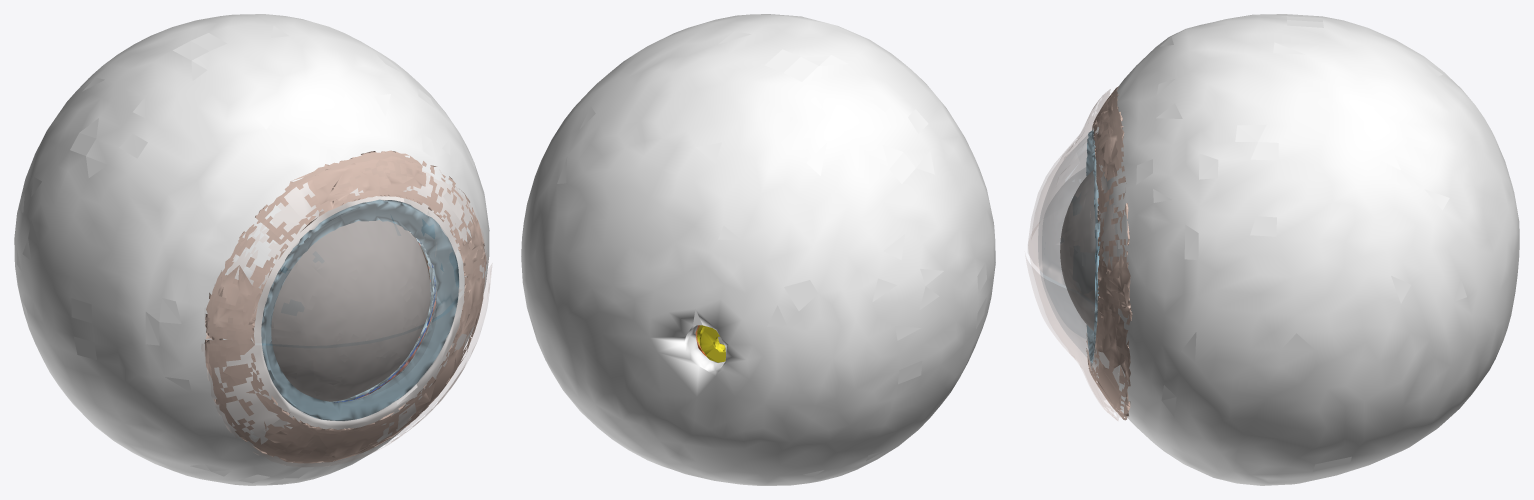
File: 3d-vh-f-eye-l-40.glb
3 views of the same model, side by side, from view 1: azimuth 30°, elevation 25°; view 2: azimuth 150°, elevation 25°; view 3: azimuth 270°, elevation 25° (orthographic).
Visible parts, largest first — view 1: VH_F_sclera_L, VH_F_palpebral_conjunctiva_of_left_upper_eyelid, VH_F_cornea_L, VH_F_palpebral_conjunctiva_of_left_lower_eyelid, VH_F_bulbar_conjunctiva_L, VH_F_aqueous_humor_L, VH_F_corneo_scleral_junction_L, VH_F_trabecular_meshwork_L; view 2: VH_F_sclera_L, VH_F_optic_disc_L; view 3: VH_F_sclera_L, VH_F_palpebral_conjunctiva_of_left_upper_eyelid, VH_F_cornea_L, VH_F_bulbar_conjunctiva_L, VH_F_palpebral_conjunctiva_of_left_lower_eyelid, VH_F_aqueous_humor_L, VH_F_corneo_scleral_junction_L.
Boxes of the visible parts, bbox=[...] form: VH_F_sclera_L: bbox=[14, 14, 489, 485]; VH_F_palpebral_conjunctiva_of_left_upper_eyelid: bbox=[209, 156, 487, 345]; VH_F_cornea_L: bbox=[262, 202, 459, 420]; VH_F_palpebral_conjunctiva_of_left_lower_eyelid: bbox=[202, 264, 491, 466]; VH_F_bulbar_conjunctiva_L: bbox=[204, 150, 486, 463]; VH_F_aqueous_humor_L: bbox=[271, 220, 430, 401]; VH_F_corneo_scleral_junction_L: bbox=[261, 199, 458, 420]; VH_F_trabecular_meshwork_L: bbox=[330, 232, 436, 401]; VH_F_sclera_L: bbox=[521, 14, 995, 485]; VH_F_optic_disc_L: bbox=[699, 326, 725, 362]; VH_F_sclera_L: bbox=[1090, 14, 1519, 485]; VH_F_palpebral_conjunctiva_of_left_upper_eyelid: bbox=[1028, 89, 1121, 313]; VH_F_cornea_L: bbox=[1038, 133, 1097, 362]; VH_F_bulbar_conjunctiva_L: bbox=[1086, 86, 1132, 420]; VH_F_palpebral_conjunctiva_of_left_lower_eyelid: bbox=[1026, 228, 1120, 420]; VH_F_aqueous_humor_L: bbox=[1060, 170, 1095, 331]; VH_F_corneo_scleral_junction_L: bbox=[1086, 130, 1099, 363].
Bounding box in the file's own units: 0.0245 × 0.0244 × 0.0257.
